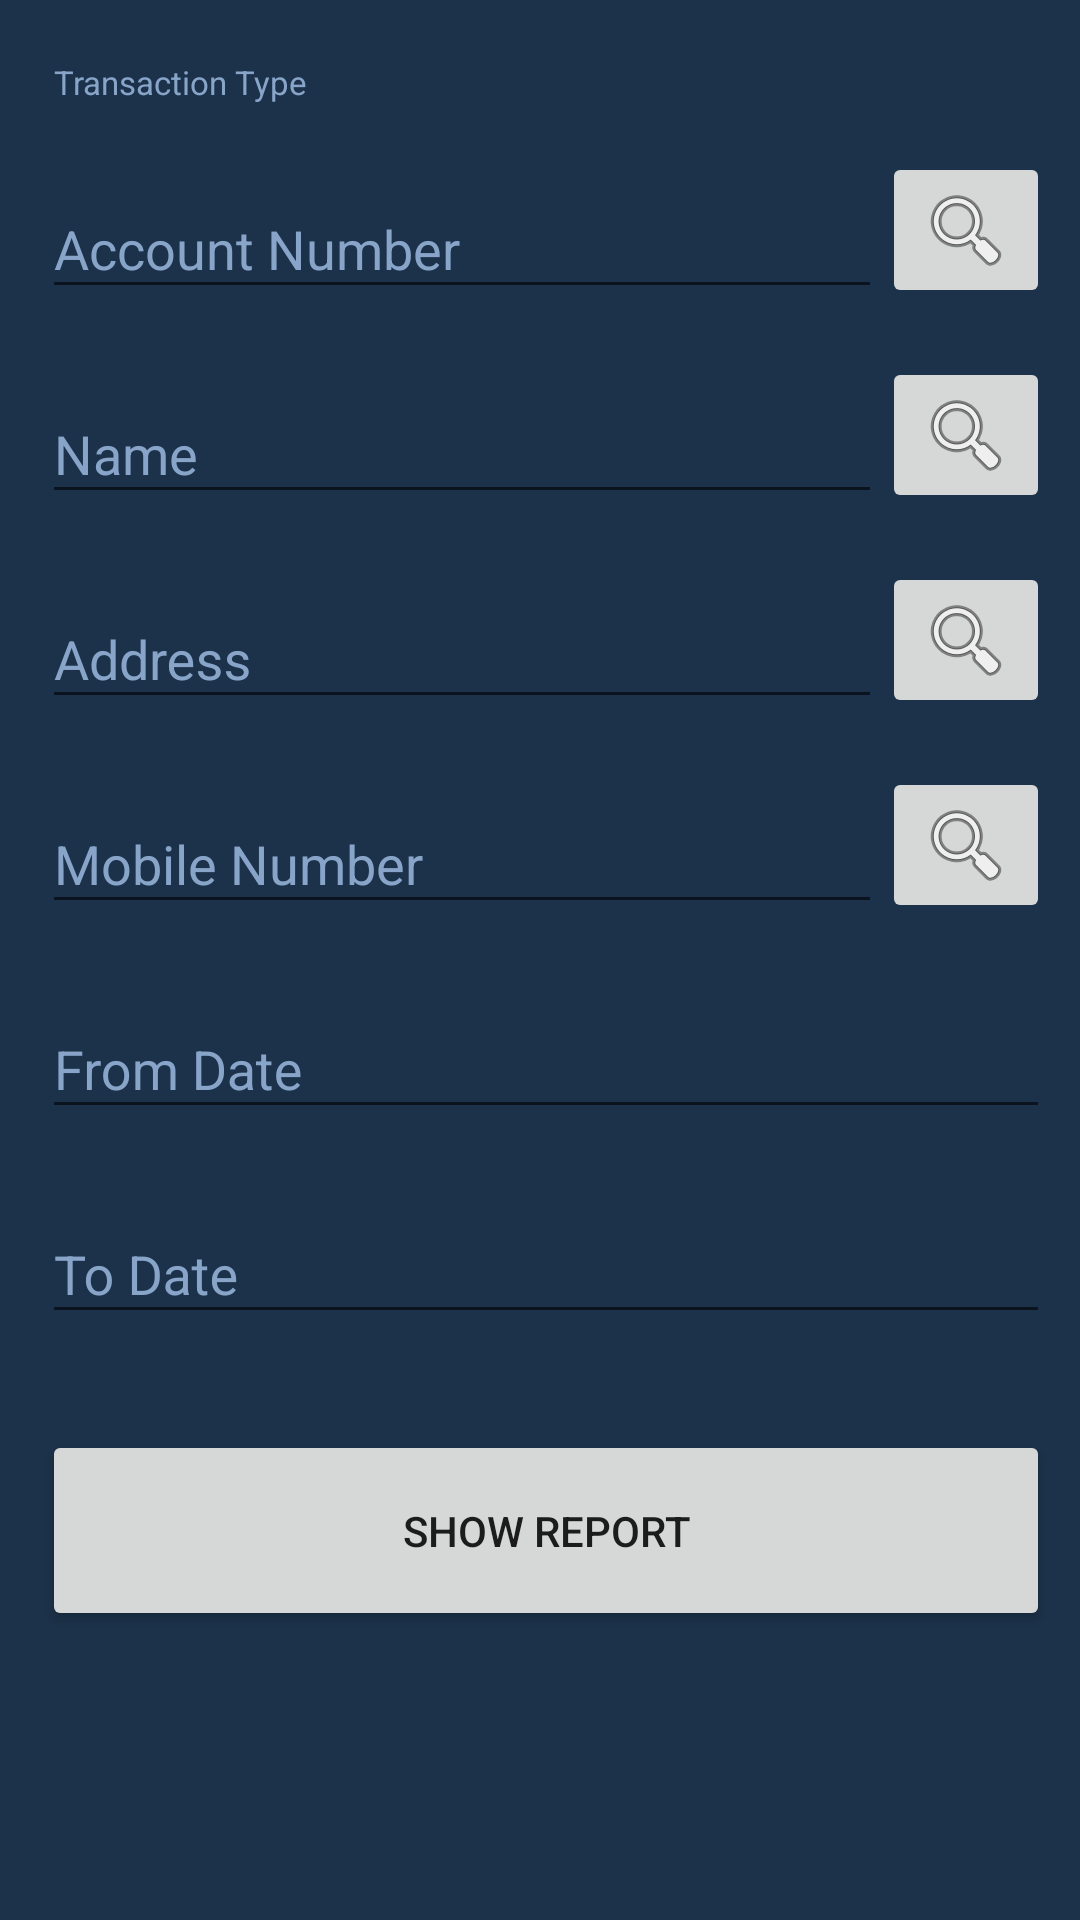

Locate icon controls on the screen. Image size 1080 × 1920, boxes as (x1, y1, x2, y2).
Search: (894, 170, 1038, 290), (894, 375, 1038, 495), (894, 580, 1038, 700), (894, 785, 1038, 905)
